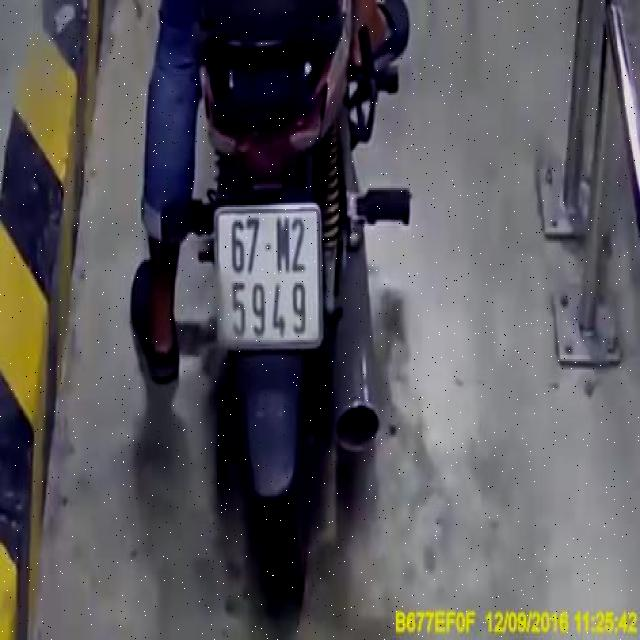2: (292, 215, 308, 279)
4: (272, 280, 286, 338)
5: (228, 278, 248, 342)
6: (229, 216, 245, 274)
7: (244, 217, 262, 272)
9: (290, 282, 308, 337), (250, 280, 267, 338)
M: (275, 212, 292, 275)
